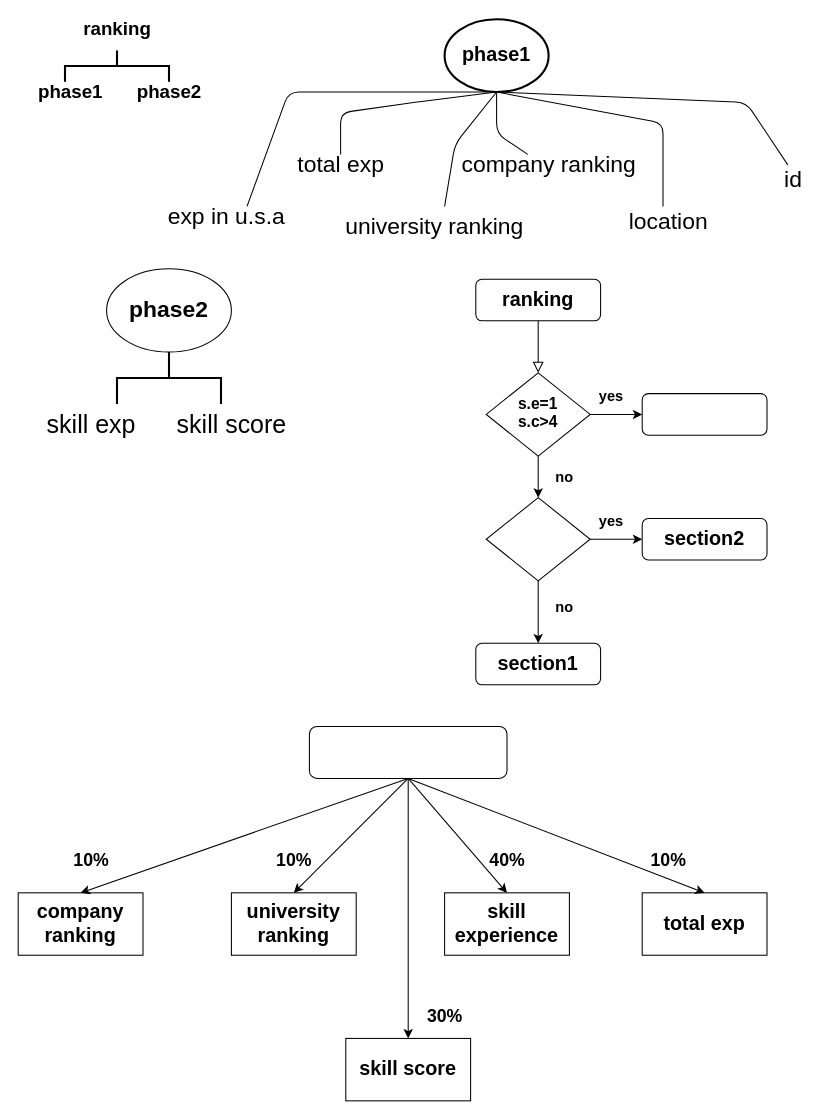
Image size: 827x1119. Some labels were removed from this diagram. The centre of each missing label's shape, as x and y in pixels:
inter section ranking: (x=407, y=751)
s.e=(1 or 0) s.c(2 - 4): (x=537, y=539)
section3: (x=704, y=414)
